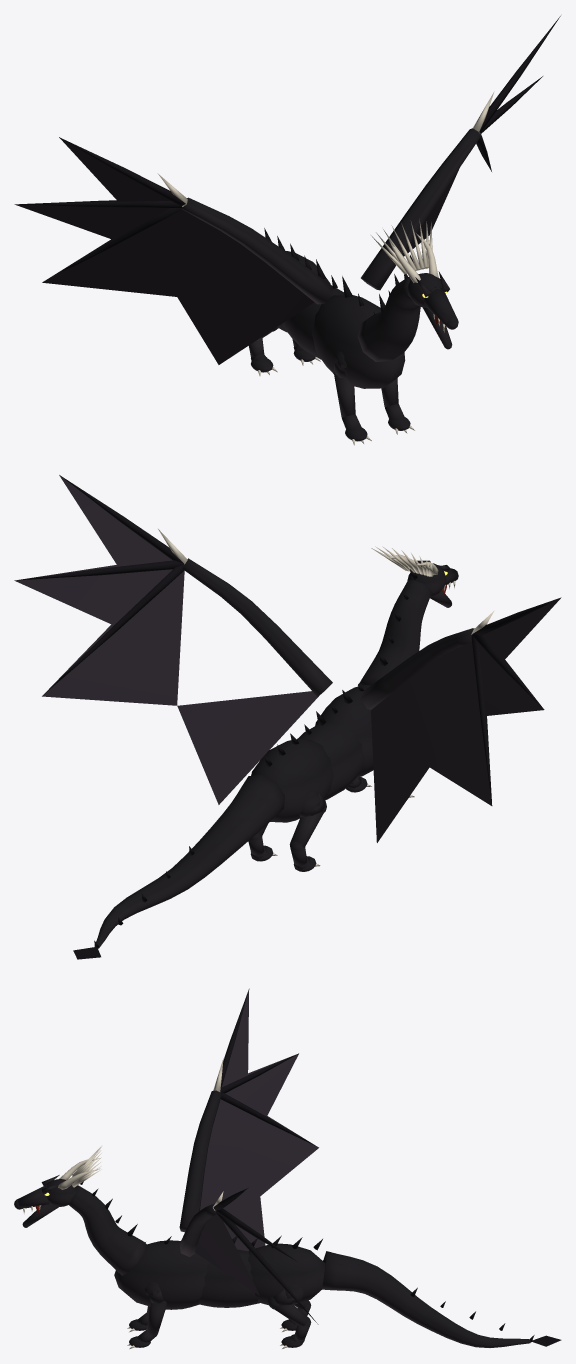
File: blackdragon.glb
3 views of the same model, one above another, from view 1: azimuth 30°, elevation 25°; view 2: azimuth 150°, elevation 25°; view 3: azimuth 270°, elevation 25° (orthographic). The views are drawn at different scales.
Parts seen in each view (by area): view 1: body, head, neck, leg_FR, leg_FL, leg_HR; view 2: body, tail, neck, head, leg_HR; view 3: body, tail, neck, head, leg_HL, leg_FL.
Part boxes in pixels (x1=…): body: x1=14, y1=16, x2=560, y2=388; head: x1=371, y1=219, x2=458, y2=349; neck: x1=358, y1=255, x2=420, y2=361; leg_FR: x1=334, y1=351, x2=371, y2=445; leg_FL: x1=381, y1=378, x2=414, y2=434; leg_HR: x1=249, y1=327, x2=278, y2=375; body: x1=14, y1=475, x2=561, y2=842; tail: x1=73, y1=774, x2=284, y2=959; neck: x1=358, y1=569, x2=431, y2=685; head: x1=371, y1=546, x2=458, y2=607; leg_HR: x1=289, y1=791, x2=326, y2=871; body: x1=114, y1=988, x2=325, y2=1324; tail: x1=321, y1=1251, x2=561, y2=1347; neck: x1=69, y1=1181, x2=146, y2=1275; head: x1=14, y1=1146, x2=101, y2=1227; leg_HL: x1=267, y1=1284, x2=311, y2=1348; leg_FL: x1=127, y1=1282, x2=166, y2=1349.
Bounding box in the file's own units: 18.73 × 10.43 × 20.69.
